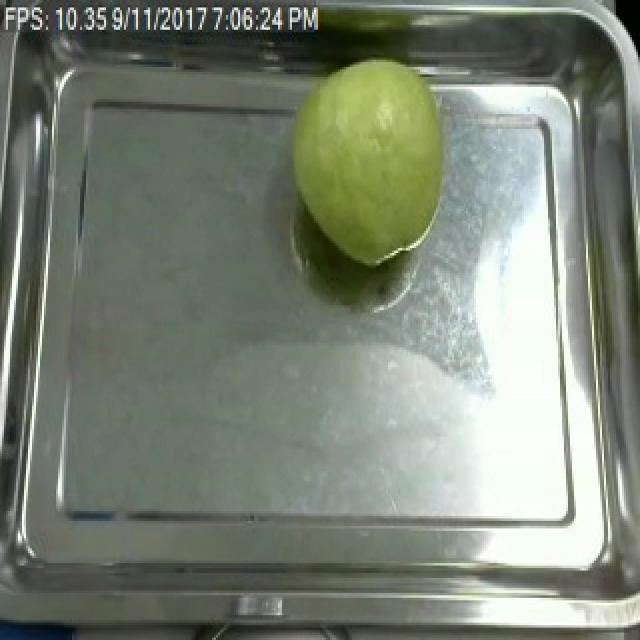Fruit: (280, 47, 462, 275)
